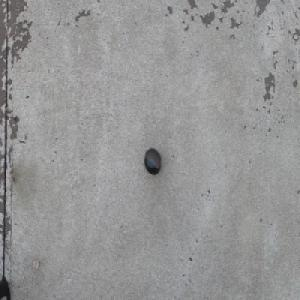FuelCap: (143, 146, 161, 174)
